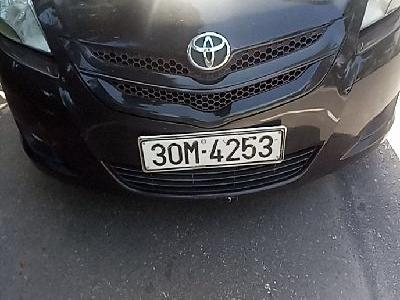lisence: (136, 126, 287, 174)
